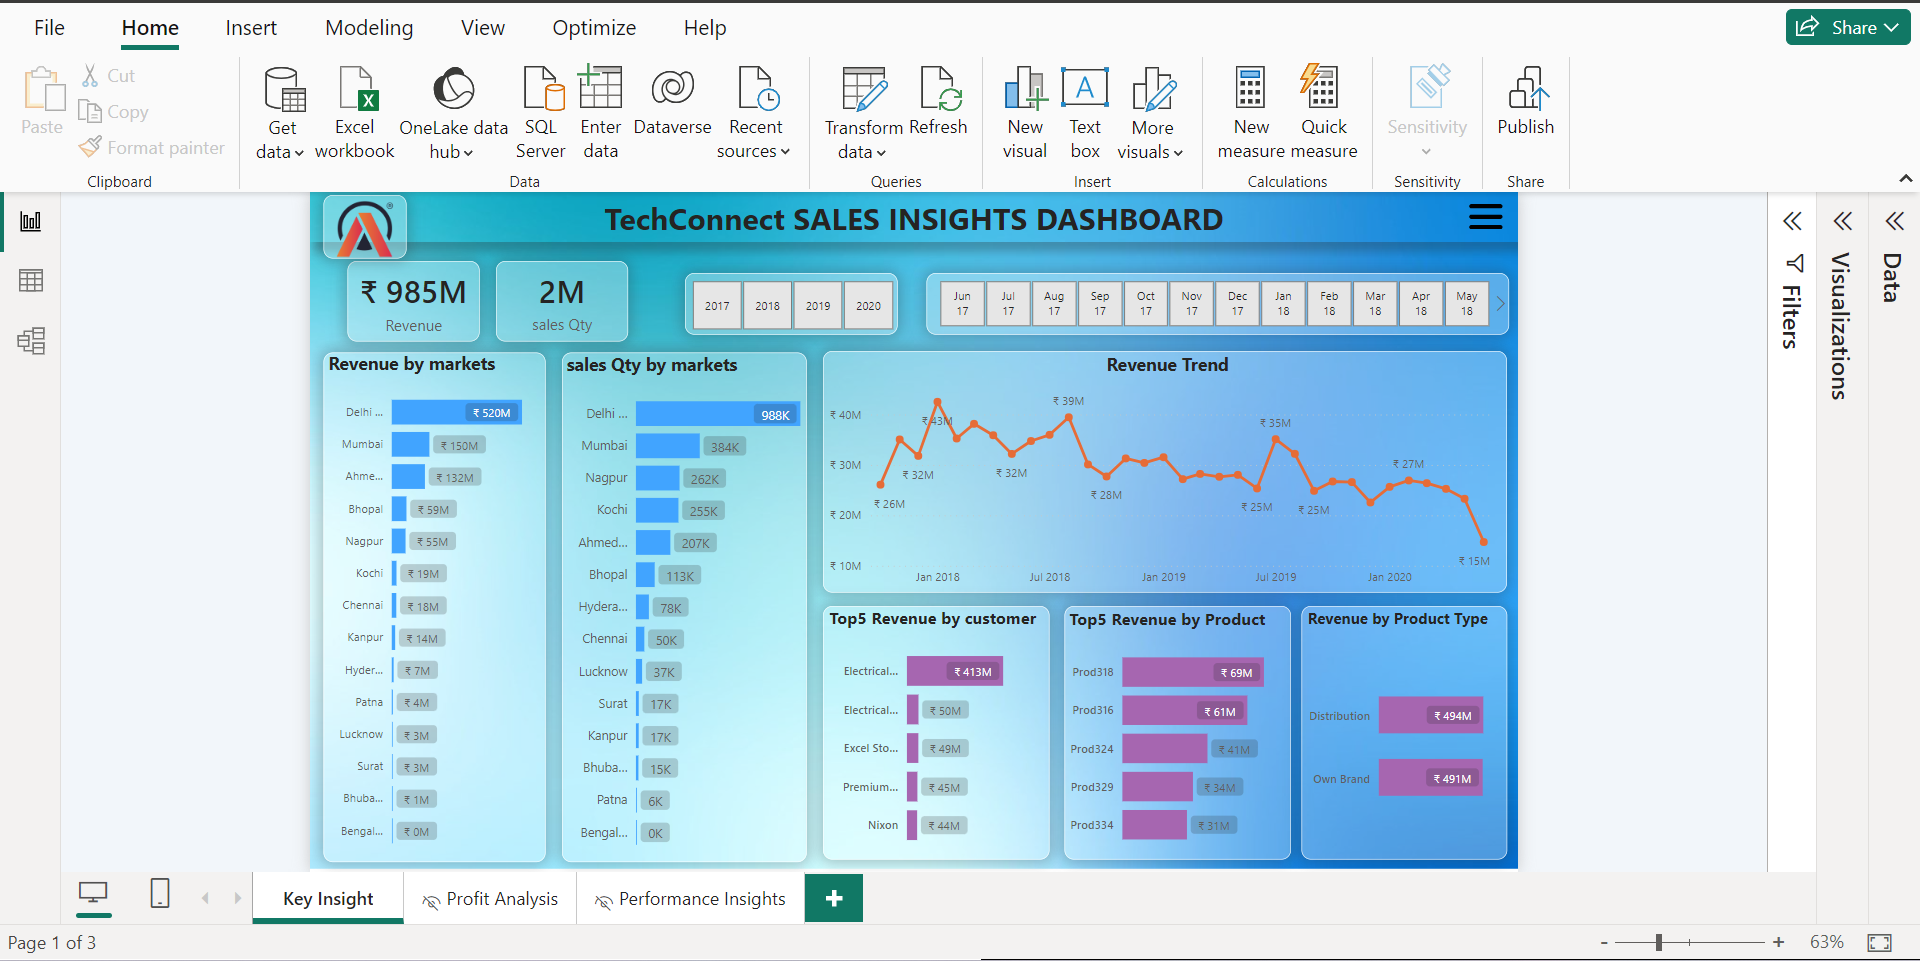

This screenshot's page, from the dashboard's own definition file:
{"tool":"powerbi","page":{"name":"Key Insight","canvas":[1280,720],"ordinal":0},"visuals":[{"type":"textbox","box":[0,0,1280.5,53],"z":0},{"type":"image","box":[1222,2.9,46.8,45.4],"z":1000},{"type":"shape","box":[197.8,72.4,139.9,85.6],"z":6000},{"type":"shape","box":[39.8,73.6,139.9,85.6],"z":7000},{"type":"shape","box":[267.7,170.1,259.3,540.3],"z":8000},{"type":"shape","box":[14.5,170.1,235.2,540.3],"z":9000},{"type":"card","fields":{"Values":["Base Measures 2.Revenue"]},"box":[39.8,73.6,139.9,84.4],"z":10000},{"type":"card","fields":{"Values":["Base Measures 2.sales Qty"]},"box":[197.8,71.2,139.9,86.8],"z":11000},{"type":"shape","box":[14.5,3.6,88,67.5],"z":12000},{"type":"image","box":[14.5,2.4,88,71.2],"z":13000},{"type":"barChart","title":"Revenue by markets","fields":{"Category":["sales markets.markets_name"],"Y":["Base Measures 2.Revenue"]},"box":[14.5,168.8,236.4,540.3],"z":14000},{"type":"barChart","title":"sales Qty by markets","fields":{"Category":["sales markets.markets_name"],"Y":["Base Measures 2.sales Qty"]},"box":[267.7,170.1,259.3,540.3],"z":15000},{"type":"shape","box":[653.7,85.6,617.5,65.1],"z":16000},{"type":"shape","box":[398,85.6,225.5,65.1],"z":17000},{"type":"slicer","fields":{"Values":["sales date.year"]},"box":[379.9,86.8,261.7,65.1],"z":18000},{"type":"slicer","fields":{"Values":["sales date.cy_date"]},"box":[642.1,87.4,631,62],"z":19000},{"type":"shape","box":[543.9,168.8,724.8,255.7],"z":20000},{"type":"shape","box":[543.9,439,240,268.9],"z":21000},{"type":"shape","box":[799.6,439,240,268.9],"z":22000},{"type":"shape","box":[1050.5,439,218.3,268.9],"z":23000},{"type":"lineChart","title":"Revenue Trend","fields":{"Y":["Base Measures 2.Revenue"],"Category":["sales date.cy_date"]},"box":[545.1,170.1,727.2,255.7],"z":24000},{"type":"barChart","title":"Top5 Revenue by customer","fields":{"Y":["Base Measures 2.Revenue"],"Category":["sales customers.custmer_name"]},"box":[545.1,439,240,270.2],"z":25000},{"type":"barChart","title":"Top5 Revenue by Product","fields":{"Y":["Base Measures 2.Revenue"],"Category":["sales products.product_code"]},"box":[799.6,440.2,240,267.7],"z":26000},{"type":"barChart","title":"Revenue by Product Type","fields":{"Y":["Base Measures 2.Revenue"],"Category":["sales products.product_type"]},"box":[1052.9,440.2,219.5,267.7],"z":27000}]}

Visuals, with their boxes on the page's 1280x720 design canvas (x1, y1, x2, y2). These are canvas units, not pixel positions in the 1920x961 screenshot, which may show the page scaled, cropped or inside an application window:
textbox: [0,0,1280,53]
image: [1222,3,1269,48]
shape: [198,72,338,158]
shape: [40,74,180,159]
shape: [268,170,527,710]
shape: [14,170,250,710]
card - Base Measures 2.Revenue: [40,74,180,158]
card - Base Measures 2.sales Qty: [198,71,338,158]
shape: [14,4,102,71]
image: [14,2,102,74]
"Revenue by markets" barChart: [14,169,251,709]
"sales Qty by markets" barChart: [268,170,527,710]
shape: [654,86,1271,151]
shape: [398,86,624,151]
slicer - sales date.year: [380,87,642,152]
slicer - sales date.cy_date: [642,87,1273,149]
shape: [544,169,1269,424]
shape: [544,439,784,708]
shape: [800,439,1040,708]
shape: [1050,439,1269,708]
"Revenue Trend" lineChart: [545,170,1272,426]
"Top5 Revenue by customer" barChart: [545,439,785,709]
"Top5 Revenue by Product" barChart: [800,440,1040,708]
"Revenue by Product Type" barChart: [1053,440,1272,708]
